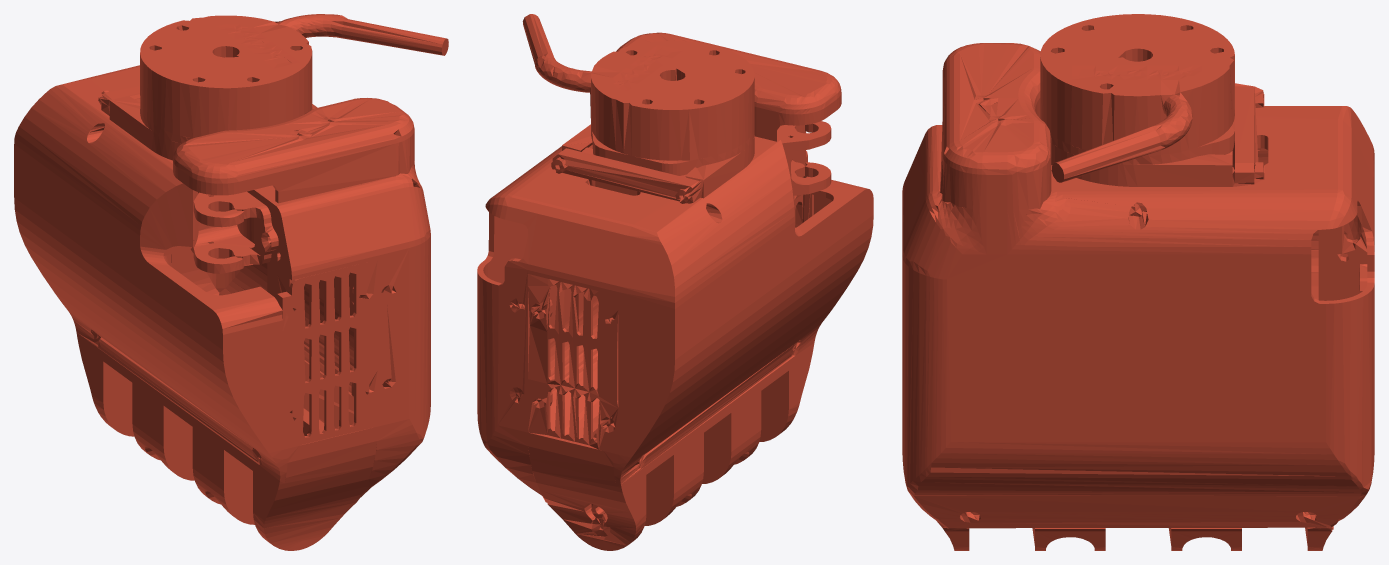
File: H2R3_LT8_palm_left.dae
The picture shows the model from 3 angles, left to right: view 1: azimuth 30°, elevation 25°; view 2: azimuth 150°, elevation 25°; view 3: azimuth 270°, elevation 25°; orthographic projection. The views are drawn at different scales.
Visible parts, largest first — view 1: H2R3_LT8_palm_left; view 2: H2R3_LT8_palm_left; view 3: H2R3_LT8_palm_left.
Part boxes in pixels (x1,y1,x2,y2): H2R3_LT8_palm_left: (14, 14, 448, 550); H2R3_LT8_palm_left: (477, 14, 873, 550); H2R3_LT8_palm_left: (902, 14, 1374, 550).
Bounding box in the file's own units: 0.0798 × 0.097 × 0.1121.
